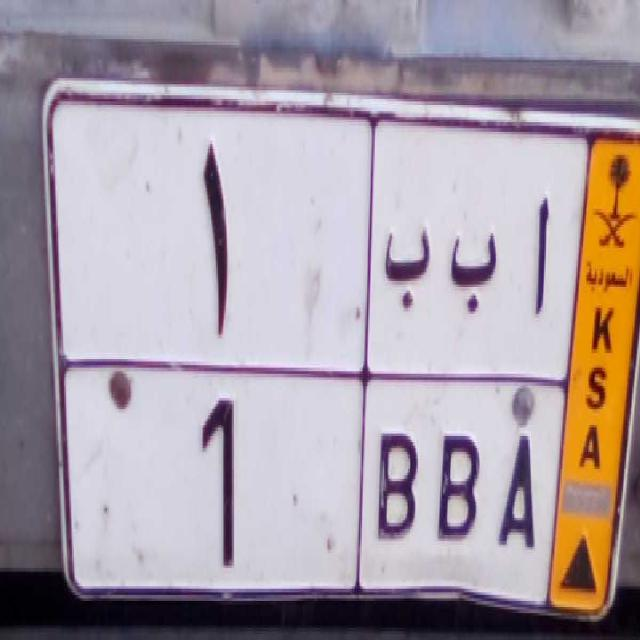license_plate: (59, 360, 562, 609)
